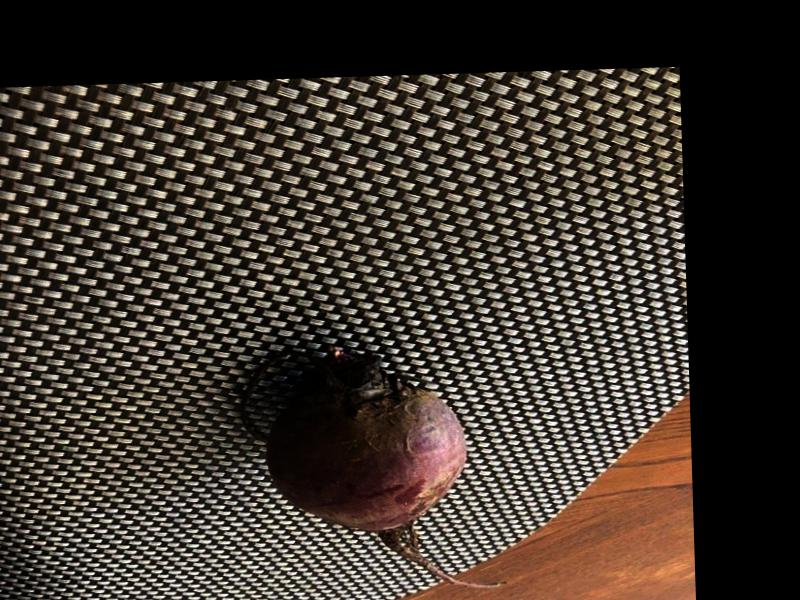Beet: (236, 342, 503, 595)
